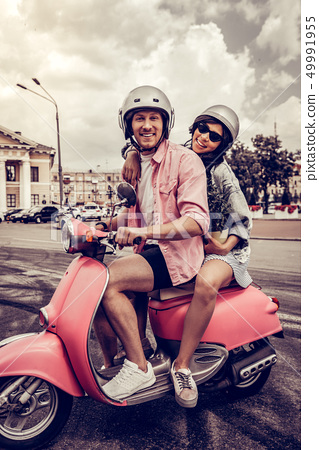helmet: (191, 105, 252, 155), (116, 81, 174, 131)
